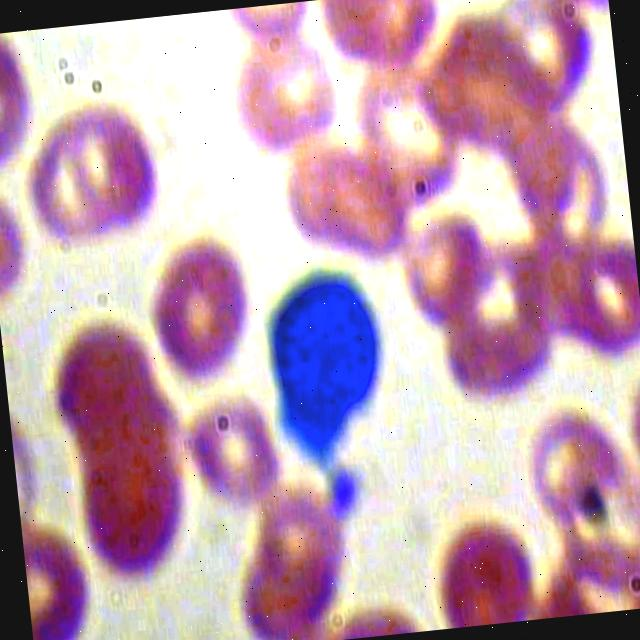Platelets: (320, 462, 360, 524)
WBC: (240, 240, 410, 474)
